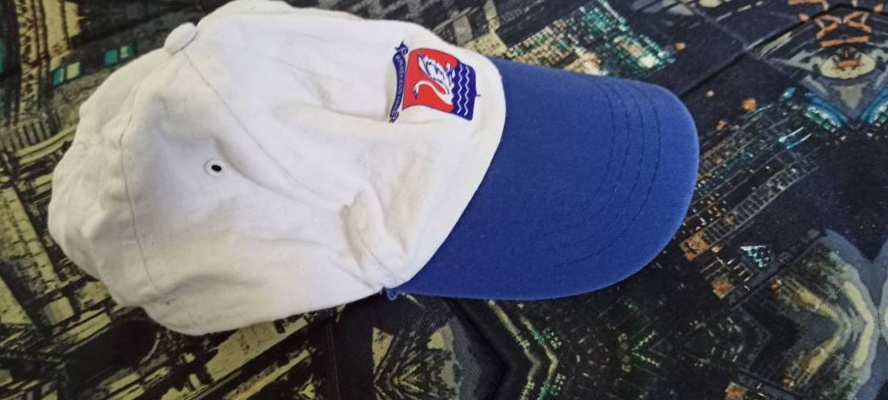Hat: (33, 0, 751, 380), (0, 0, 707, 23), (86, 378, 804, 400)
